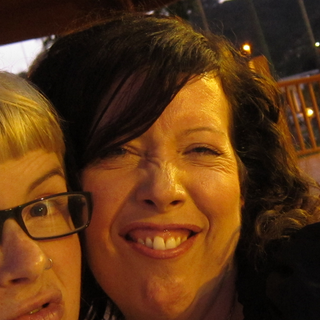eye: (20, 190, 67, 227)
